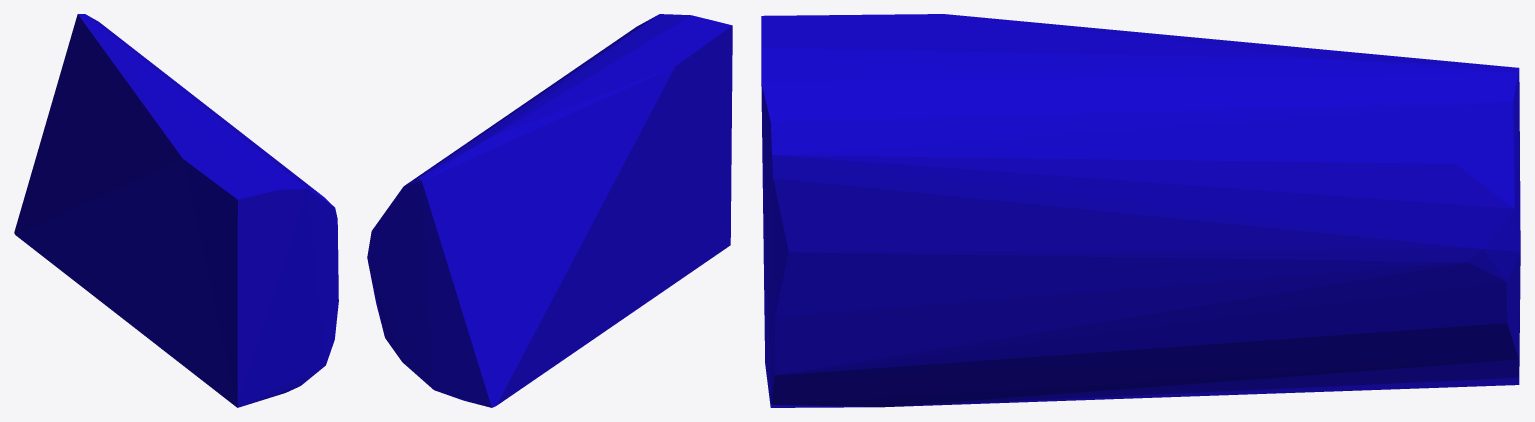
Rendered from arm-L3-mirror_convex_piece_002.obj.
3 renders of one model, left to right at view 1: azimuth 30°, elevation 25°; view 2: azimuth 150°, elevation 25°; view 3: azimuth 270°, elevation 25°, orthographic. The views are drawn at different scales.
Bounding box in the file's own units: 0.0433 × 0.0713 × 0.1391.
